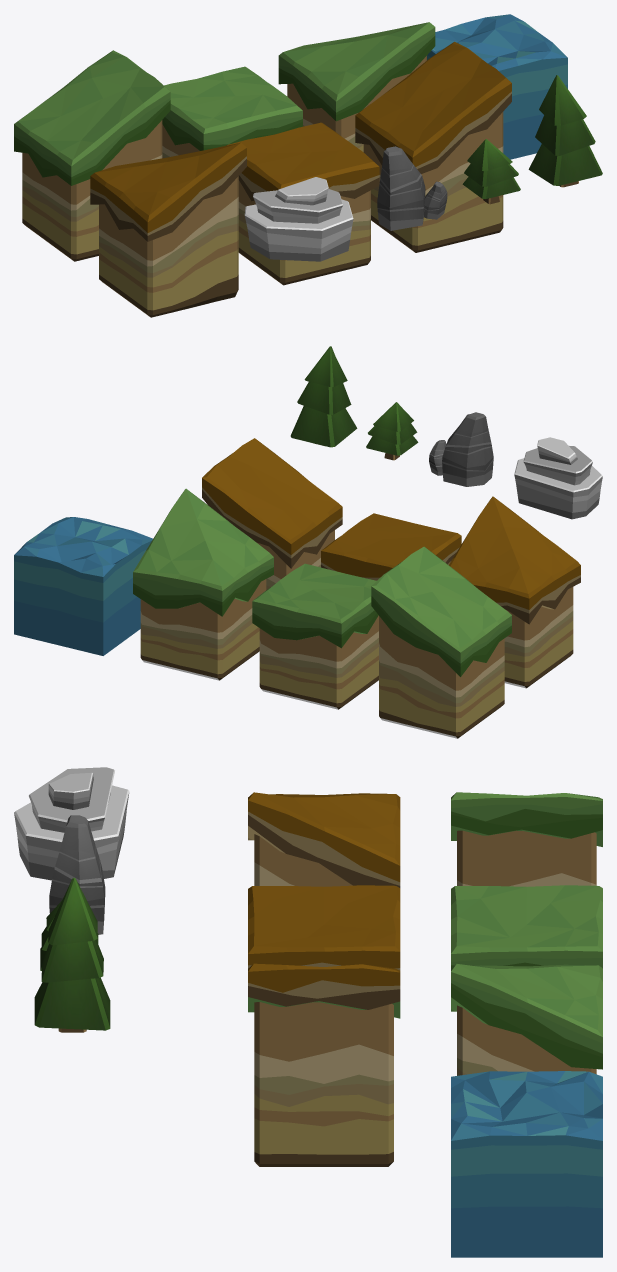
Rendered from RunestrifeProps.fbx.
3 views of the same model, one above another, from view 1: azimuth 30°, elevation 25°; view 2: azimuth 150°, elevation 25°; view 3: azimuth 270°, elevation 25° (orthographic). The views are drawn at different scales.
Visible parts, largest first — view 1: Cube.001, Cube.005, Cube.002, Cube, Cube.003, Cube.004, Cube.006, Stone, Trunk.001, Stone.001, Trunk; view 2: Cube.005, Cube.003, Cube.004, Cube.006, Cube.001, Cube.002, Cube, Stone, Trunk.001, Stone.001, Trunk; view 3: Cube.002, Cube.006, Cube.003, Cube.001, Cube.005, Cube, Cube.004, Stone, Trunk.001, Stone.001.
Boxes of the visible parts, x1,y1,x2,y2 form: Cube.001: (90,142,246,317); Cube.005: (14,50,170,261); Cube.002: (355,41,511,252); Cube: (226,122,379,285); Cube.003: (278,22,435,151); Cube.004: (162,66,302,158); Cube.006: (427,14,567,159); Stone: (244,177,353,261); Trunk.001: (528,75,602,187); Stone.001: (377,146,447,230); Trunk: (462,139,520,204); Cube.005: (371,546,511,738); Cube.003: (133,488,273,680); Cube.004: (252,563,378,709); Cube.006: (14,517,152,655); Cube.001: (449,496,580,688); Cube.002: (202,438,342,589); Cube: (321,513,461,580); Stone: (514,437,602,519); Trunk.001: (290,346,357,447); Stone.001: (429,412,493,486); Trunk: (366,402,418,460); Cube.002: (248,963,400,1166); Cube.006: (451,1071,602,1257); Cube.003: (451,964,602,1075); Cube.001: (248,792,400,887); Cube.005: (451,792,602,886); Cube: (248,885,400,970); Cube.004: (451,885,602,968); Stone: (14,767,129,880); Trunk.001: (34,877,110,1032); Stone.001: (49,815,105,934).
Bounding box in the file's own units: 1500 × 612 × 1162.
